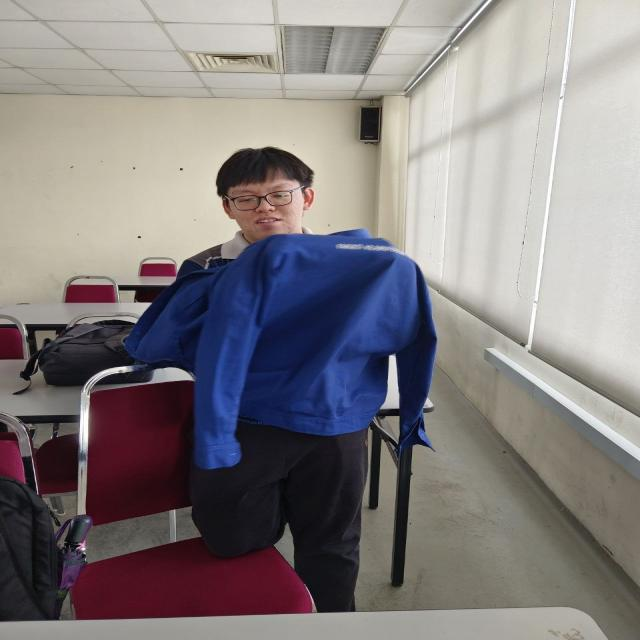person_without_labcoat: (127, 147, 436, 612)
